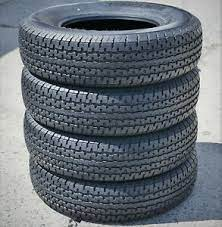tire: (18, 1, 203, 88), (23, 110, 198, 182), (21, 67, 200, 137), (29, 150, 197, 224)
